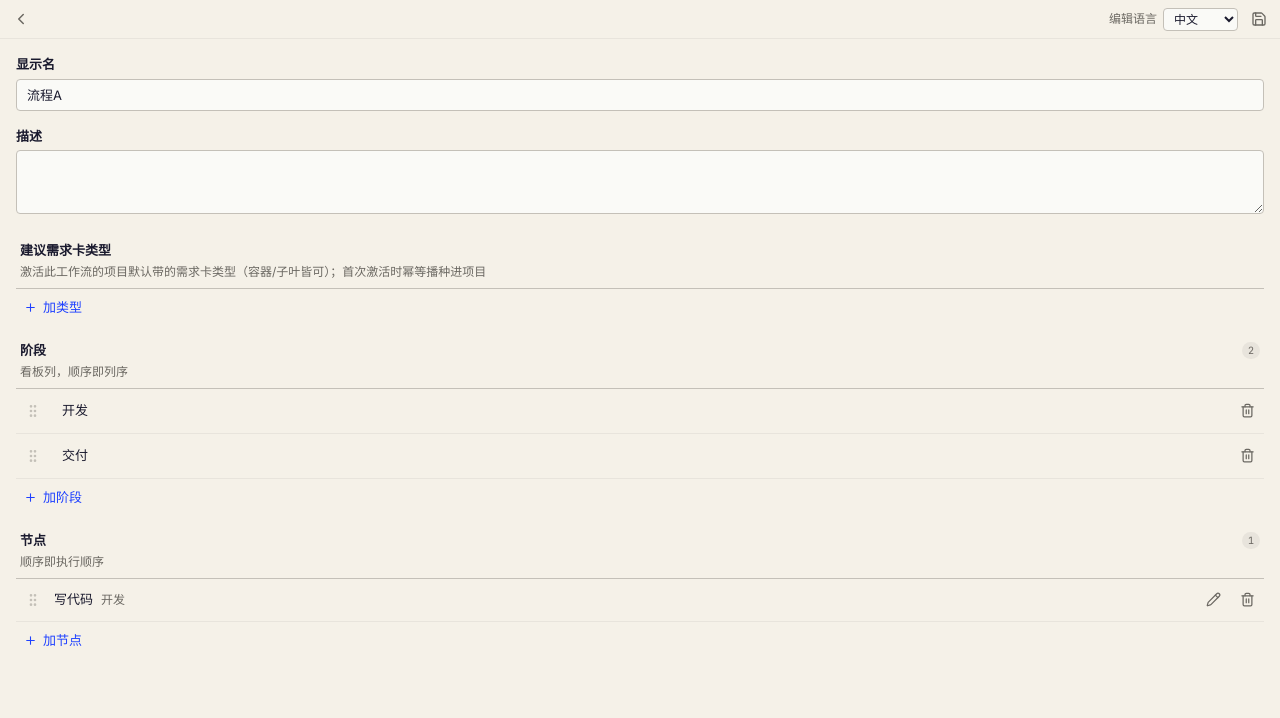
Scenario: WorkflowEditor 表单编辑 › 加检查项：自动校验只有校验命令（无说明）；切人工评审直接显示动作按钮文案+命令
Click the button named "编辑节点 写代码". click: (1213,600)
box: [1200,586,1226,612]
(page scrolled)
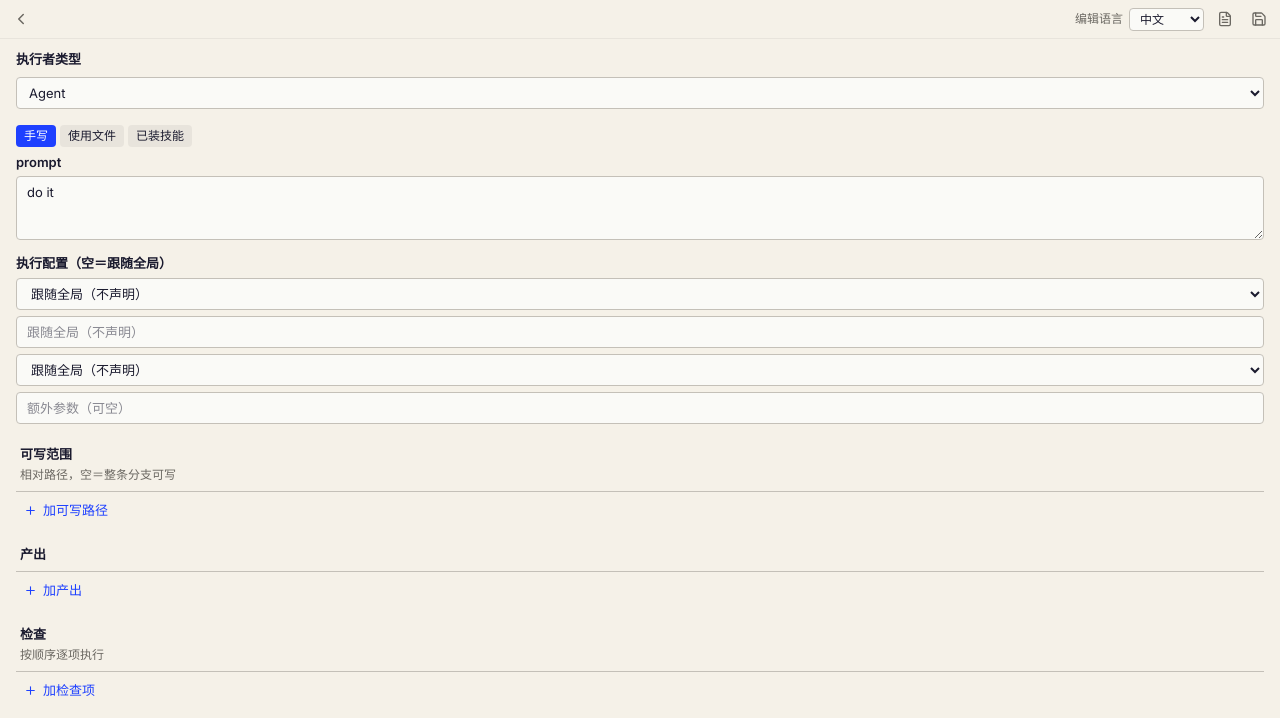
Click the button "加检查项". click: (60,691)
box: [16,678,103,704]
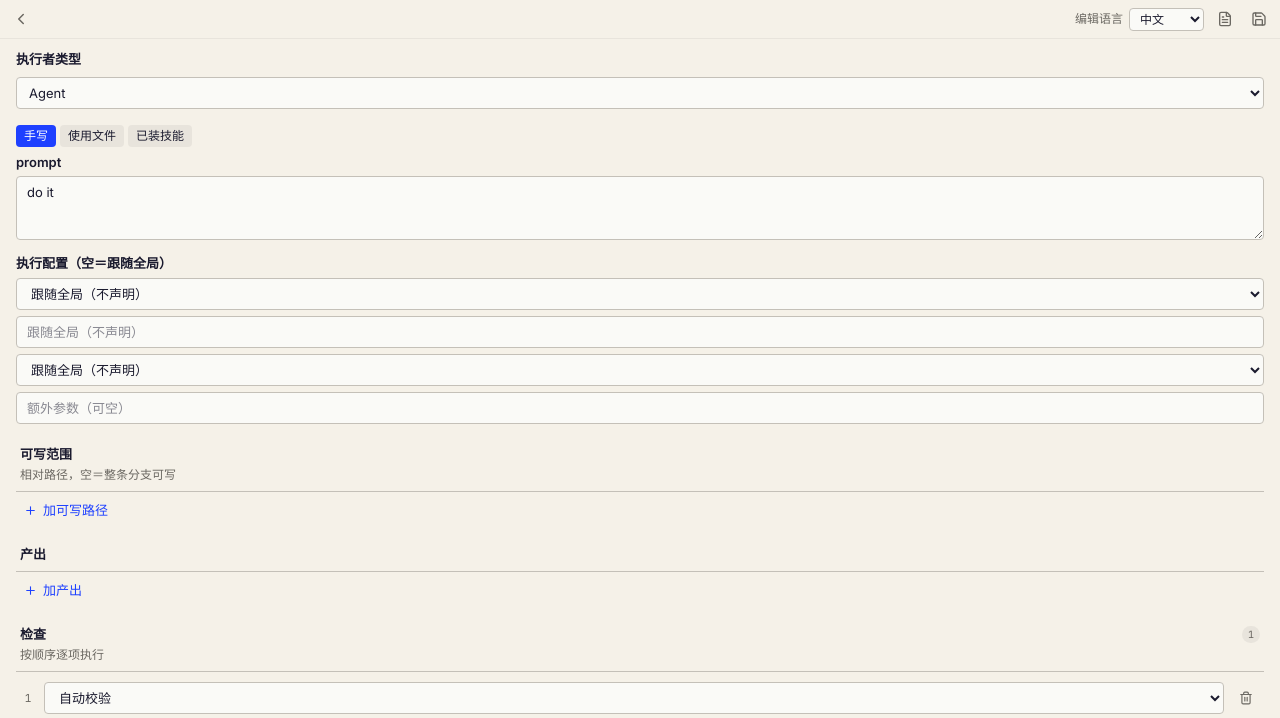
Select "人工评审" in the dropdown named "检查项类型 1". click: (634,698)
box: [44,682,1224,714]
(page scrolled)
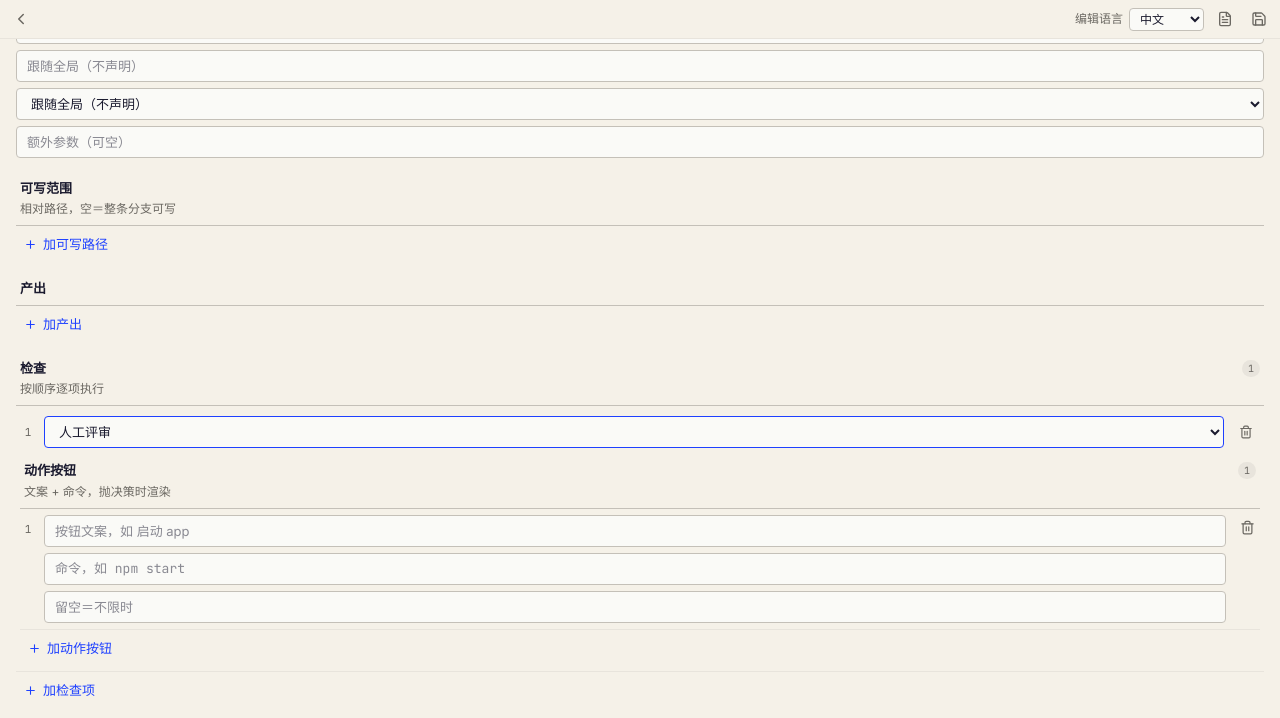
Expected: the field named "动作名称 1.1" is shown, [44,515,1226,547]
Expected: the field named "动作命令 1.1" is shown, [44,553,1226,585]
Click the button "加动作按钮". click: (70,648)
box: [20,636,120,661]
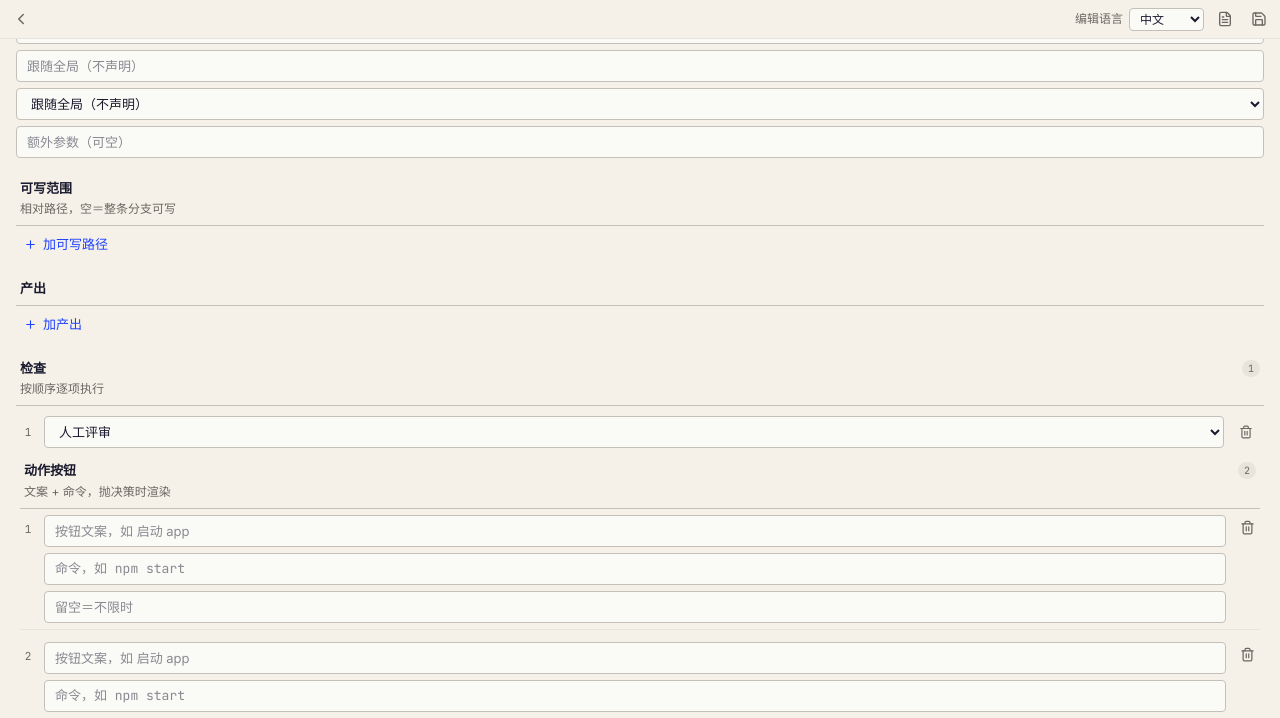
Expected: the field named "动作名称 1.2" is shown, [44,642,1226,674]
